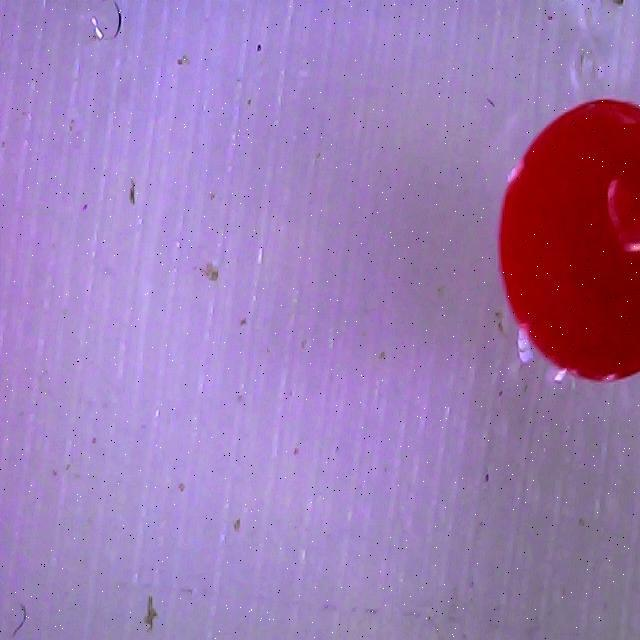beads: (501, 99, 640, 381)
